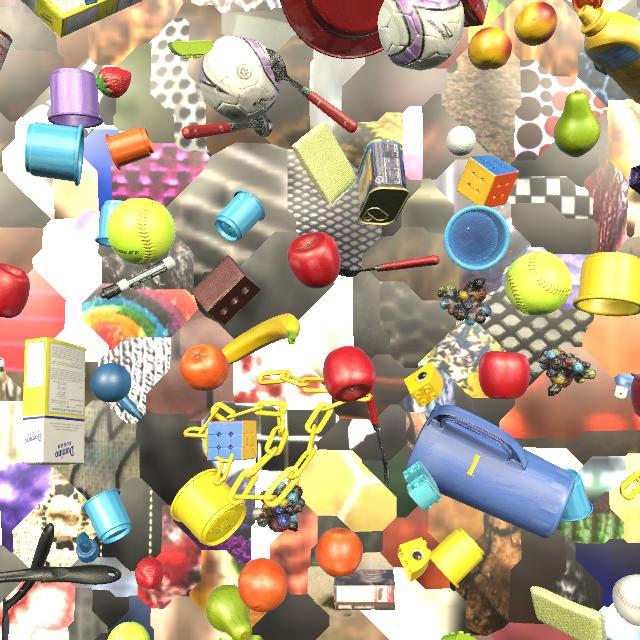ycb_003_cracker_box: (460, 0, 489, 27)
ycb_004_sugar_box: (21, 337, 86, 465), (21, 0, 142, 38)
ycb_005_tomato_soup_can: (0, 29, 12, 71)
ycb_006_mustard_bottle: (578, 5, 640, 105)
ycb_008_pudding_box: (333, 570, 395, 611)
ycb_010_potted_meat_can: (358, 138, 410, 226)
ycb_011_banana: (221, 313, 300, 365)
ycb_012_strawberry: (95, 66, 132, 98), (135, 556, 164, 590)
ycb_013_apple: (287, 232, 341, 289), (323, 346, 376, 402), (478, 351, 530, 399), (0, 263, 30, 318)
ycb_015_peach: (514, 1, 557, 46), (468, 27, 512, 70)
ycb_016_pear: (554, 90, 601, 157), (206, 584, 252, 640)
ycb_017_orange: (238, 558, 288, 612), (315, 527, 363, 577), (180, 344, 229, 391)
